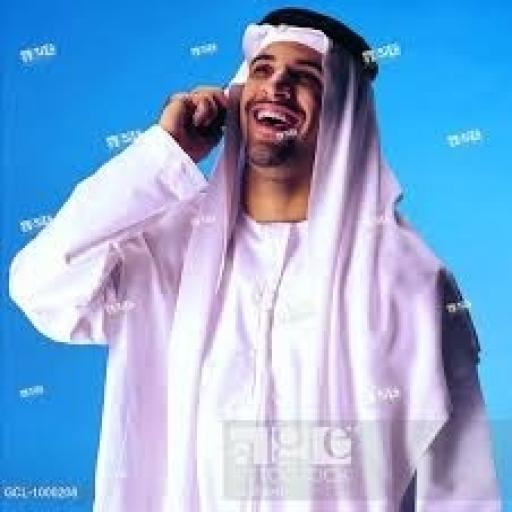laughing: (7, 2, 505, 510)
